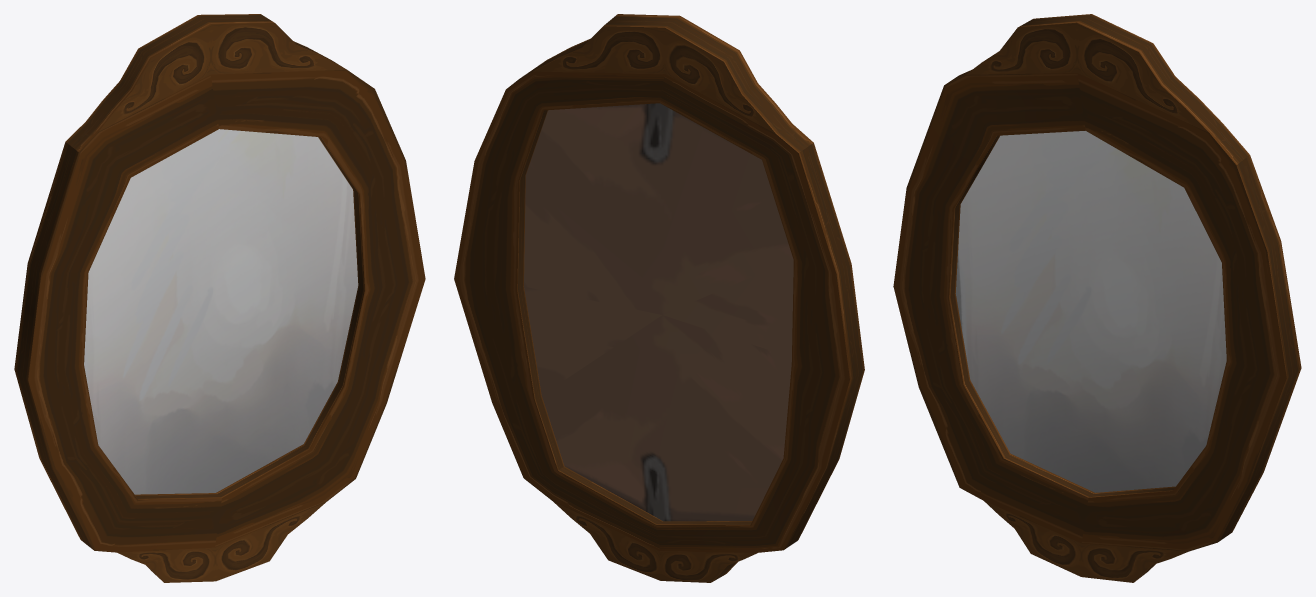
Rendered from SM_PROP_mirror_interior_04.fbx.
3 views of the same model, side by side, from view 1: azimuth 30°, elevation 25°; view 2: azimuth 150°, elevation 25°; view 3: azimuth 330°, elevation 25° (orthographic).
Parts seen in each view (by area): view 1: SM_PROP_mirror_interior_04; view 2: SM_PROP_mirror_interior_04; view 3: SM_PROP_mirror_interior_04.
Boxes of the visible parts, x1=… form: SM_PROP_mirror_interior_04: x1=14, y1=14, x2=425, y2=582; SM_PROP_mirror_interior_04: x1=454, y1=14, x2=864, y2=582; SM_PROP_mirror_interior_04: x1=893, y1=14, x2=1301, y2=582.
Bounding box in the file's own units: 78.14 × 105 × 5.51.
